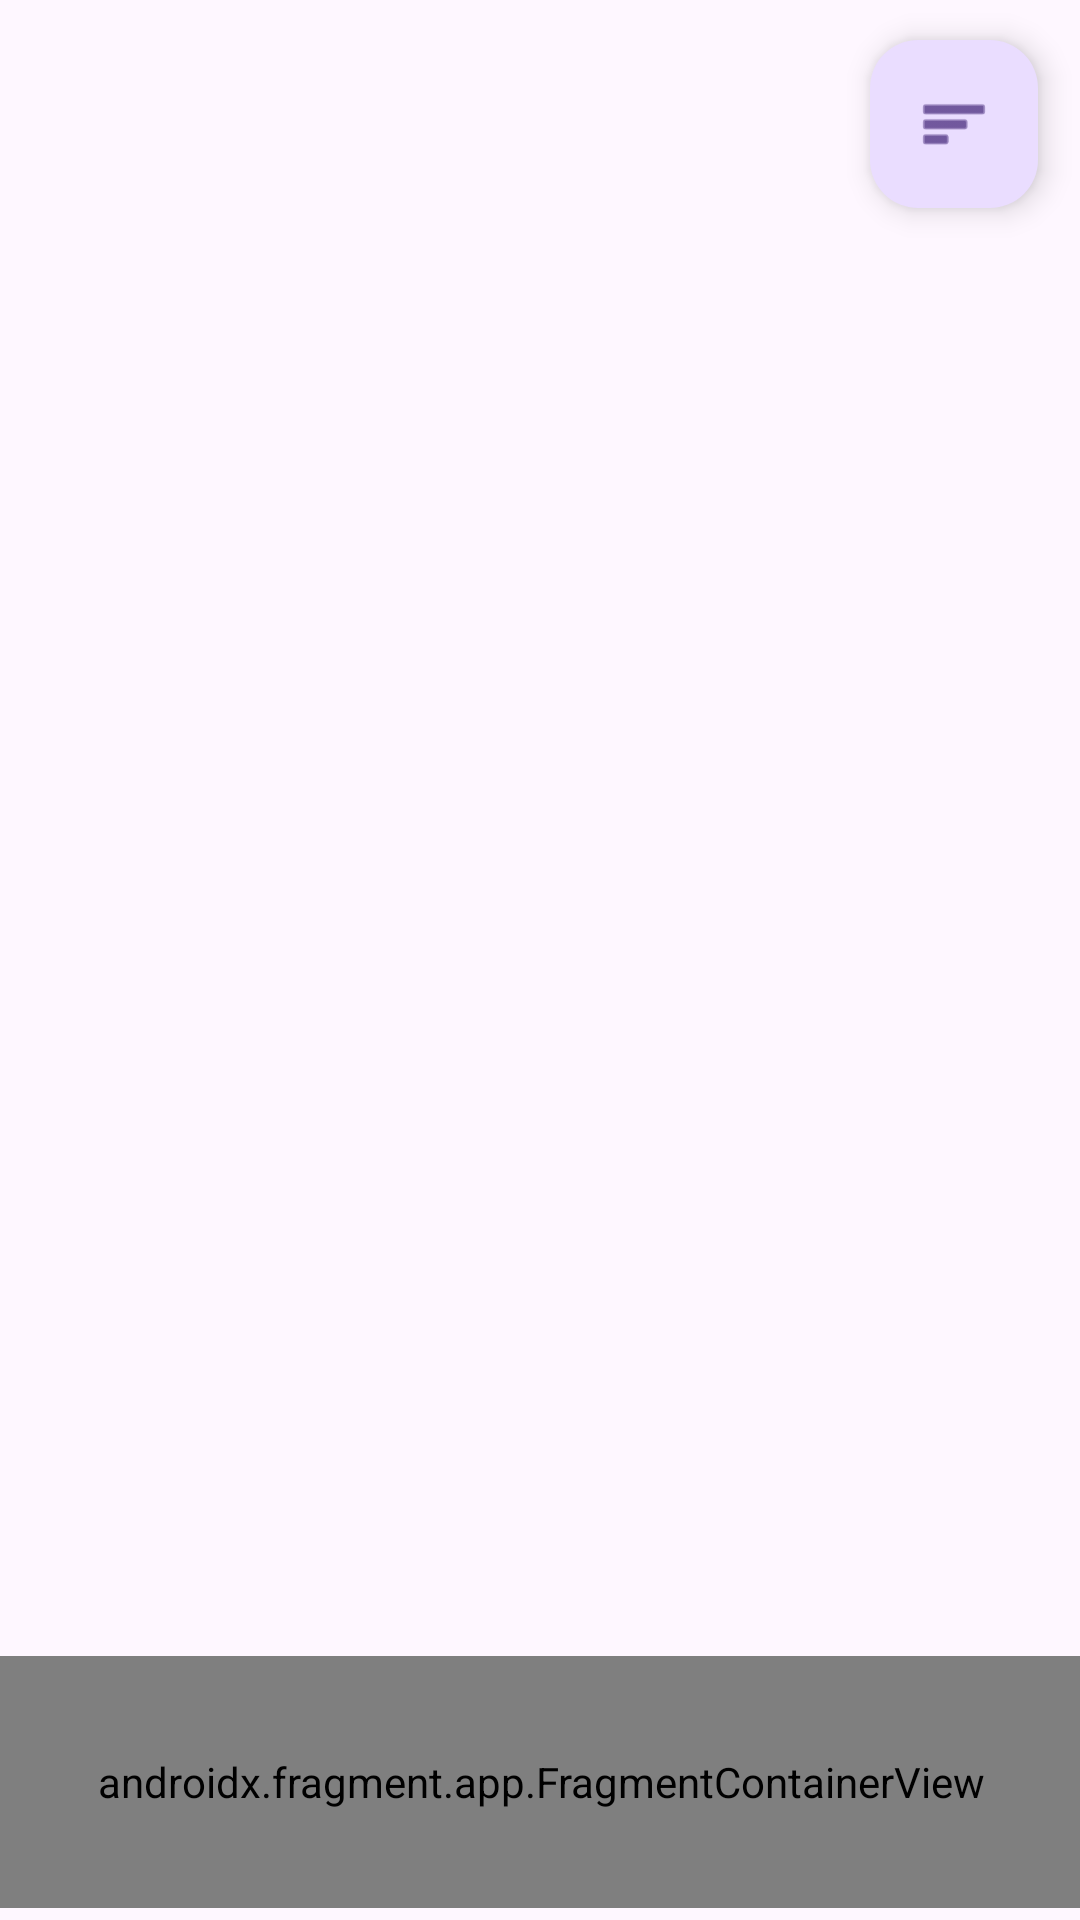

Point at icon controls on the screen. Image size 1080px x 1920px, points as point (x, y).
sort by size: point (954, 124)
